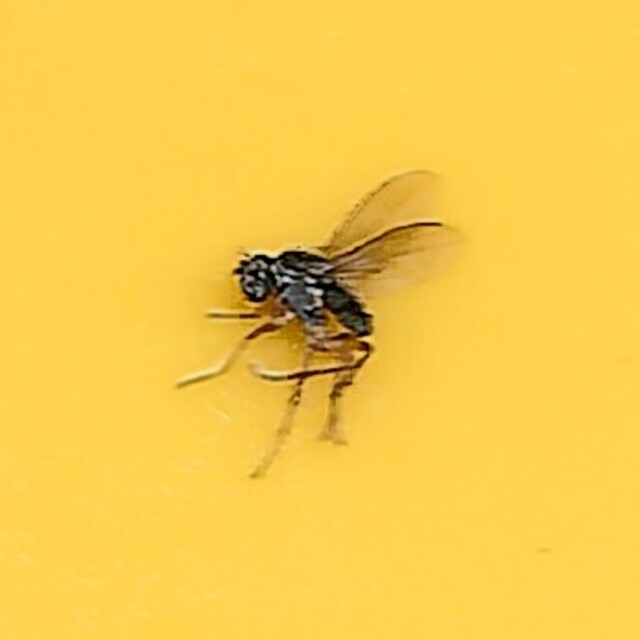Brachycera: (184, 169, 456, 471)
